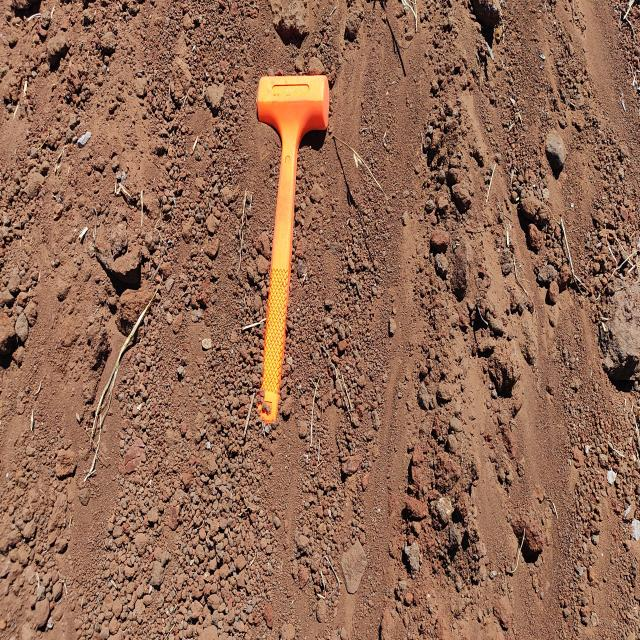Orange_hammer: (255, 72, 330, 430)
